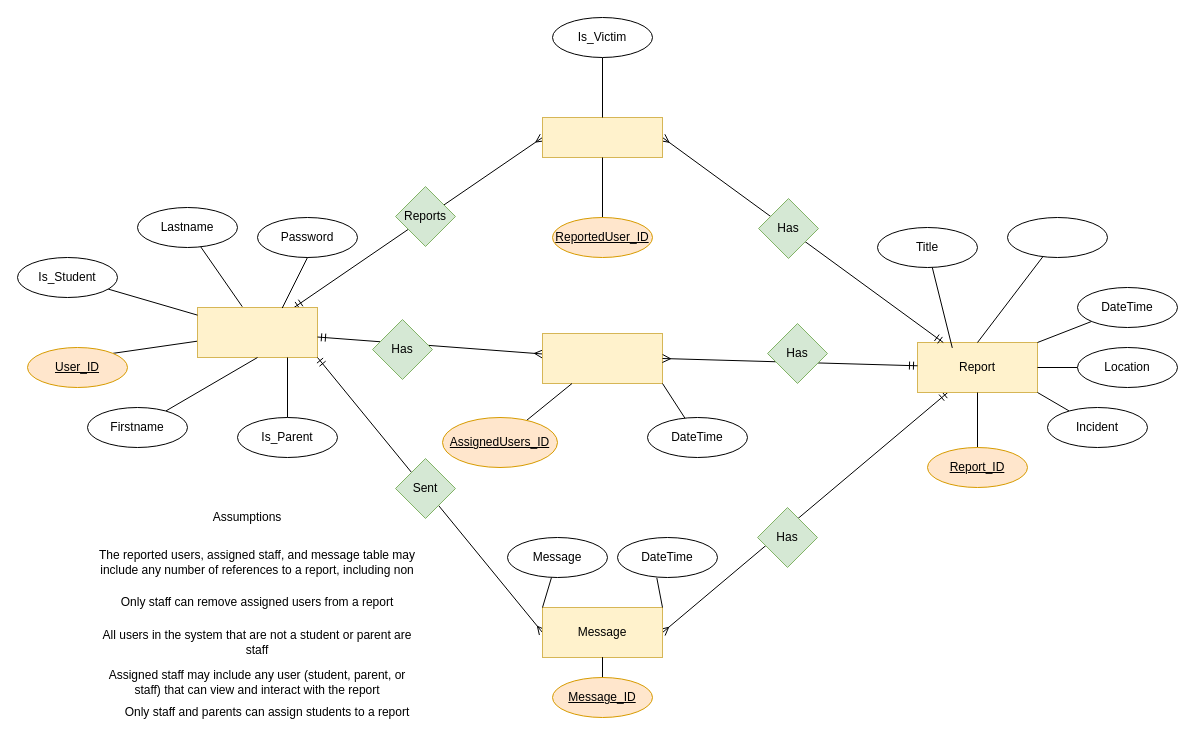
Some shapes in this 1195 by 745 pixel diagram are drawn without their labels. The centre of each missing label's shape, as x and y in pixels:
"Assigned Users" belongs at point (602, 358).
"Reported Users" belongs at point (602, 137).
"Status" belongs at point (1057, 237).
"User" belongs at point (257, 332).
